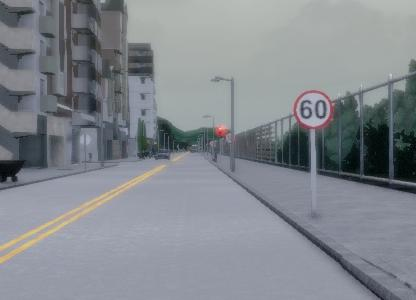Speed_60: (294, 91, 335, 127)
